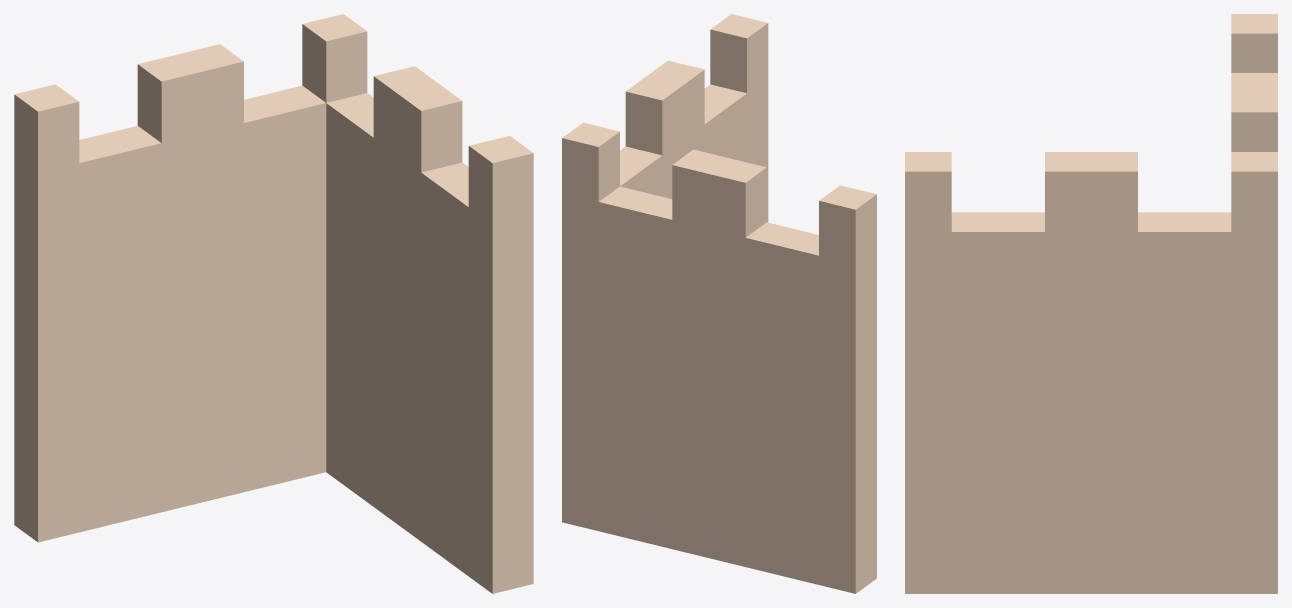
Rendered from Abstract_Modular_Battlements_Back_Right_Tall_1.0_Beige_01.fbx.
3 views of the same model, side by side, from view 1: azimuth 30°, elevation 25°; view 2: azimuth 150°, elevation 25°; view 3: azimuth 270°, elevation 25° (orthographic). The views are drawn at different scales.
Parts seen in each view (by area): view 1: Abstract_Modular_Battlements_Back_Right_Tall_1.0_Beige_01; view 2: Abstract_Modular_Battlements_Back_Right_Tall_1.0_Beige_01; view 3: Abstract_Modular_Battlements_Back_Right_Tall_1.0_Beige_01.
Part boxes in pixels (box(x1,y1,x2,y2)): Abstract_Modular_Battlements_Back_Right_Tall_1.0_Beige_01: box(14, 14, 533, 593); Abstract_Modular_Battlements_Back_Right_Tall_1.0_Beige_01: box(562, 14, 876, 593); Abstract_Modular_Battlements_Back_Right_Tall_1.0_Beige_01: box(905, 14, 1277, 593).
Bounding box in the file's own units: 3000 × 3750 × 3000.
